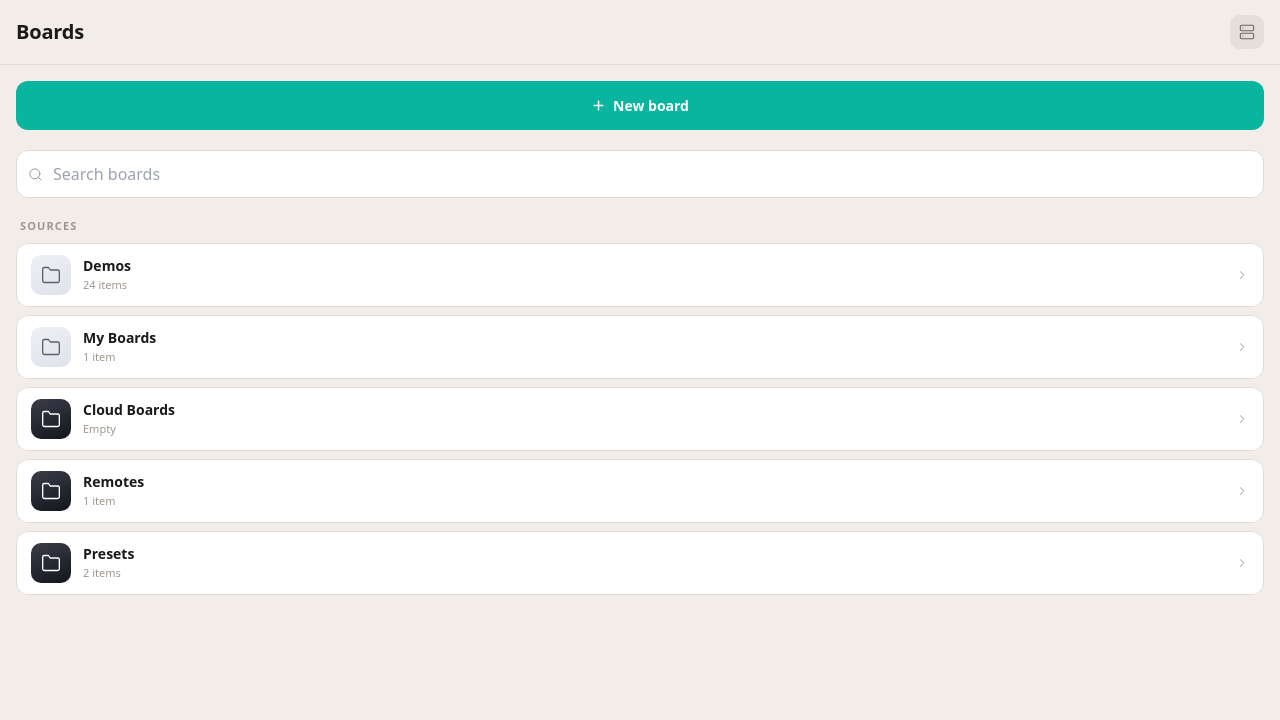
mobile start page sources › shows the Cloud Boards source with its login hint when logged out
The image size is (1280, 720).
Click the text "Cloud Boards". click: (129, 410)
box: [83,400,175,419]
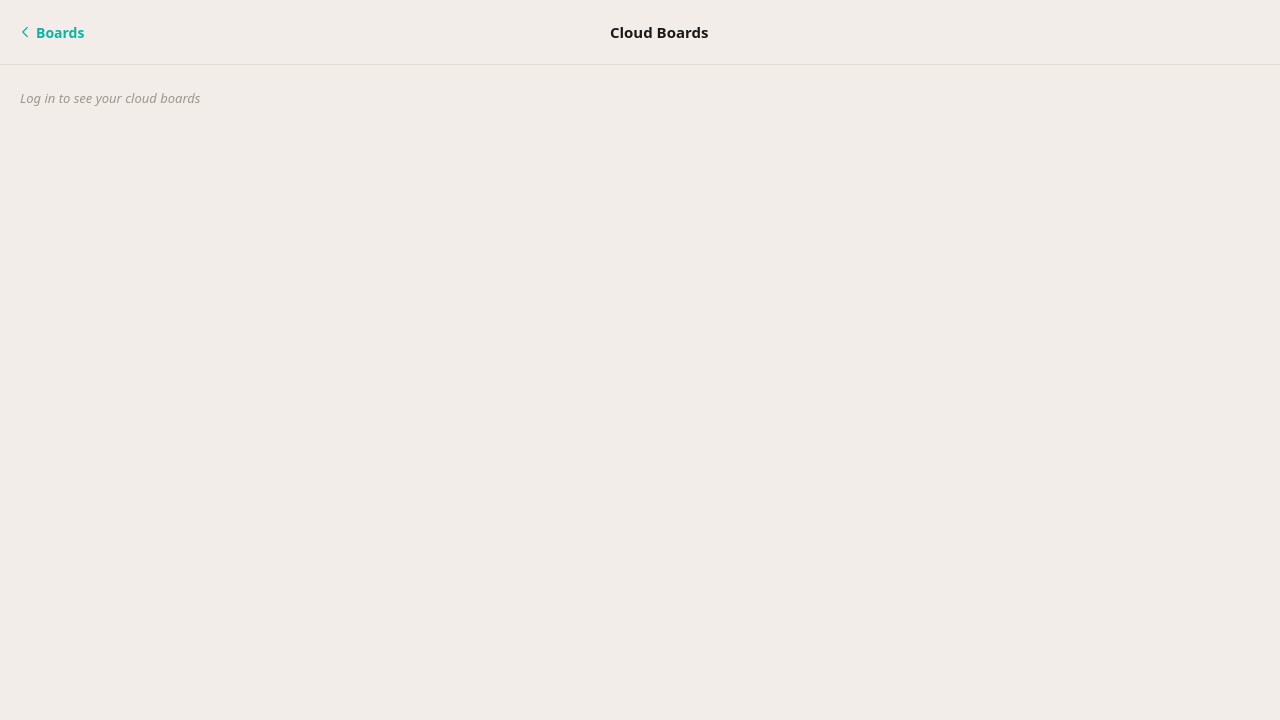
Expected: the text "Log in to see your cloud boards" is shown, [20,89,200,107]
